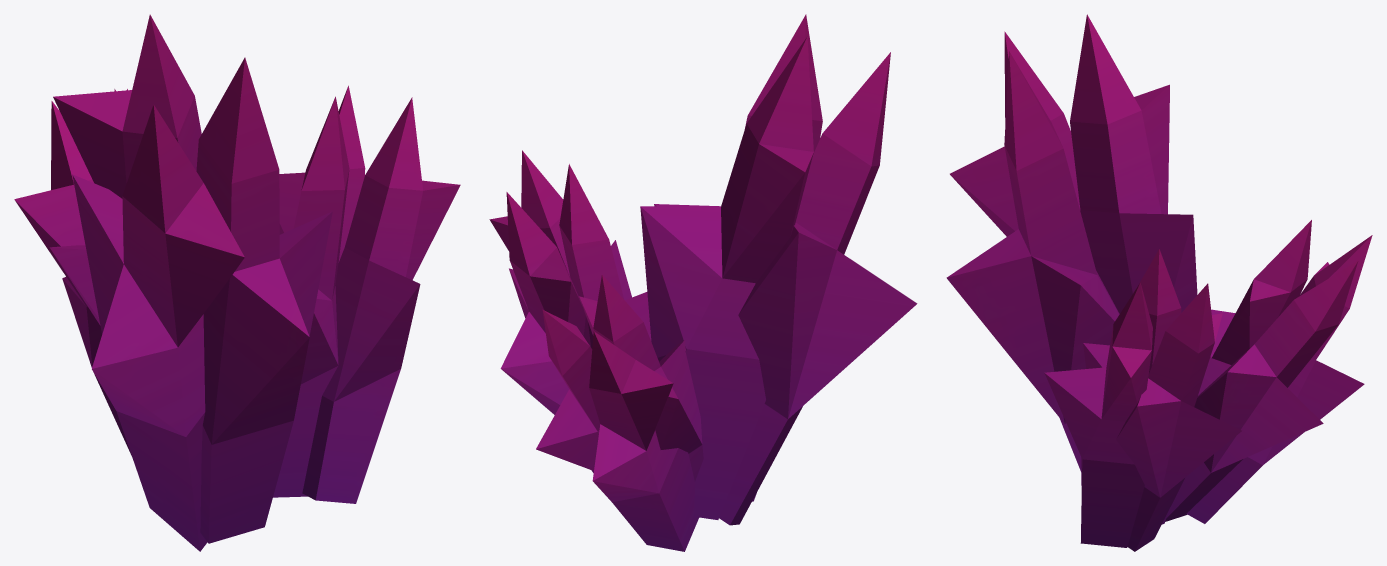
The model's file is asset_cristal_Minijuego.fbx.
3 renders of one model, left to right at view 1: azimuth 30°, elevation 25°; view 2: azimuth 150°, elevation 25°; view 3: azimuth 270°, elevation 25°, orthographic. The views are drawn at different scales.
Visible parts, largest first — view 1: prop_cristal_minijuego; view 2: prop_cristal_minijuego; view 3: prop_cristal_minijuego.
Part boxes in pixels (box(x1,y1,x2,y2)): prop_cristal_minijuego: box(14, 14, 460, 551); prop_cristal_minijuego: box(489, 14, 917, 551); prop_cristal_minijuego: box(946, 14, 1372, 551).
Size of the model in its own units: 0.0407 by 0.051 by 0.042.
Materials: 1 (1 with a texture image).
